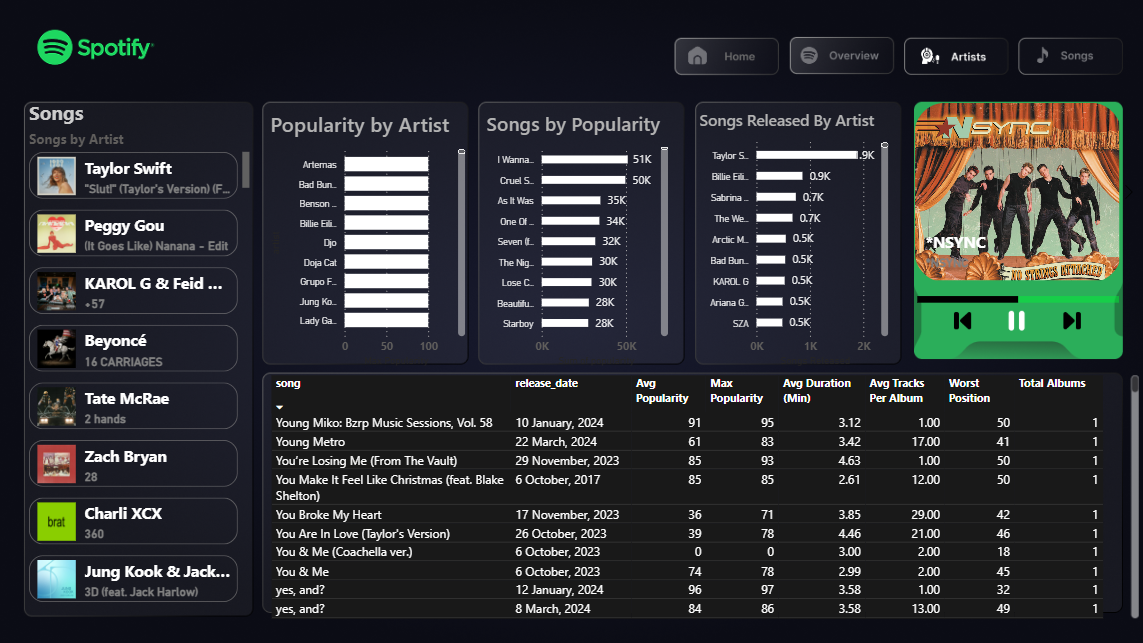

This screenshot's page, from the dashboard's own definition file:
{"tool":"powerbi","page":{"name":"Artist","canvas":[1280,720],"ordinal":1},"visuals":[{"type":"actionButton","box":[752,42.3,115.5,40.7],"z":0},{"type":"actionButton","box":[878.9,43.9,122,40.7],"z":1000},{"type":"actionButton","box":[1000.9,43.9,122,40.7],"z":2000},{"type":"actionButton","box":[1135.9,42.3,122,40.7],"z":3000},{"type":"advancedSlicerVisual","fields":{"Values":["TOP-50-WORLD.artist"]},"box":[995.4,109,279.8,209.8],"z":4000},{"type":"hundredPercentStackedBarChart","fields":{"Y":["Measure.Avg Popularity","Avg(TOP-50-WORLD.popularity)"]},"box":[1018.2,294.4,234.2,68.3],"z":5000},{"type":"image","box":[1172.7,340.3,44,32],"z":6000},{"type":"image","box":[1052.1,340.3,44,32],"z":7000},{"type":"image","box":[1112.4,340.3,44,32],"z":8000},{"type":"shape","box":[1011.7,110.6,247.2,208.2],"z":9000},{"type":"barChart","title":"Popularity by Artist","fields":{"Y":["Measure.Max Popularity"],"Category":["TOP-50-WORLD.artist"]},"box":[299.3,122,226.1,289.5],"z":10000},{"type":"barChart","title":"Songs by Popularity","fields":{"Category":["TOP-50-WORLD.song"],"Y":["Sum(TOP-50-WORLD.popularity)"]},"box":[540,122,211.5,289.5],"z":11000},{"type":"advancedSlicerVisual","title":"Songs ","fields":{"Values":["TOP-50-WORLD.song"]},"box":[30.9,110.6,255.4,566],"z":12000},{"type":"barChart","title":"Songs Released By Artist","fields":{"Y":["Measure.Songs Released"],"Category":["TOP-50-WORLD.artist"]},"box":[775.9,122,219.6,289.5],"z":13000},{"type":"tableEx","fields":{"Values":["TOP-50-WORLD.song","TOP-50-WORLD.release_date","Measure.Avg Popularity","Measure.Max Popularity","Measure.Avg Duration (Min)","Measure.Avg Tracks Per Album","Measure.Worst Position","Measure.Total Albums"]},"box":[300,411.7,975,280],"z":14000}]}

Visuals, with their boxes in screenshot pixels (x1, y1, x2, y2), scaled from the page's 1280x720 canvas onto the 1143x643 screenshot:
actionButton: {"x1": 672, "y1": 38, "x2": 775, "y2": 74}
actionButton: {"x1": 785, "y1": 39, "x2": 894, "y2": 76}
actionButton: {"x1": 894, "y1": 39, "x2": 1003, "y2": 76}
actionButton: {"x1": 1014, "y1": 38, "x2": 1123, "y2": 74}
advancedSlicerVisual - TOP-50-WORLD.artist: {"x1": 889, "y1": 97, "x2": 1139, "y2": 285}
hundredPercentStackedBarChart - Measure.Avg Popularity x Avg(TOP-50-WORLD.popularity): {"x1": 909, "y1": 263, "x2": 1118, "y2": 324}
image: {"x1": 1047, "y1": 304, "x2": 1086, "y2": 332}
image: {"x1": 939, "y1": 304, "x2": 979, "y2": 332}
image: {"x1": 993, "y1": 304, "x2": 1033, "y2": 332}
shape: {"x1": 903, "y1": 99, "x2": 1124, "y2": 285}
"Popularity by Artist" barChart: {"x1": 267, "y1": 109, "x2": 469, "y2": 367}
"Songs by Popularity" barChart: {"x1": 482, "y1": 109, "x2": 671, "y2": 367}
"Songs " advancedSlicerVisual: {"x1": 28, "y1": 99, "x2": 256, "y2": 604}
"Songs Released By Artist" barChart: {"x1": 693, "y1": 109, "x2": 889, "y2": 367}
tableEx - TOP-50-WORLD.song x TOP-50-WORLD.release_date: {"x1": 268, "y1": 368, "x2": 1139, "y2": 618}
